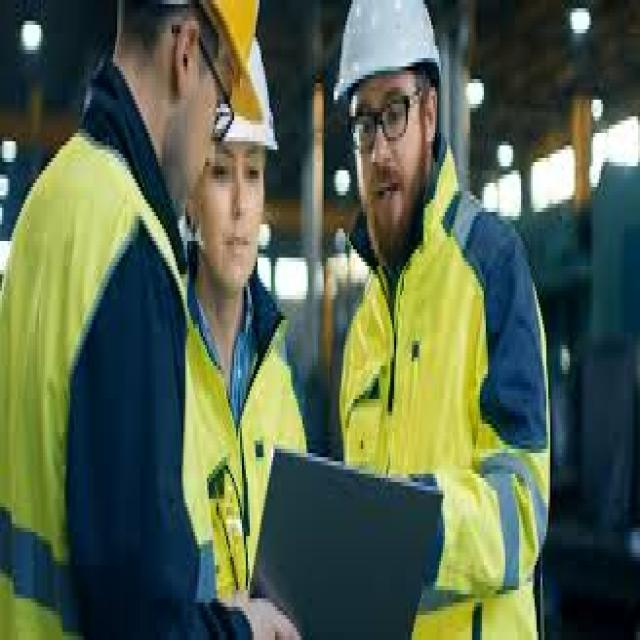Reflective-Jacket: (0, 117, 191, 628), (342, 195, 554, 636), (174, 266, 306, 607)
Safety-Helmet: (332, 0, 445, 112), (203, 8, 281, 162), (175, 0, 268, 124)
